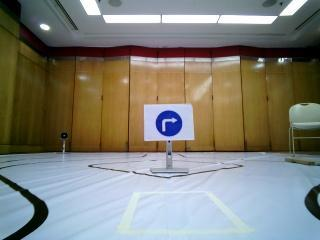right: (143, 104, 193, 138)
